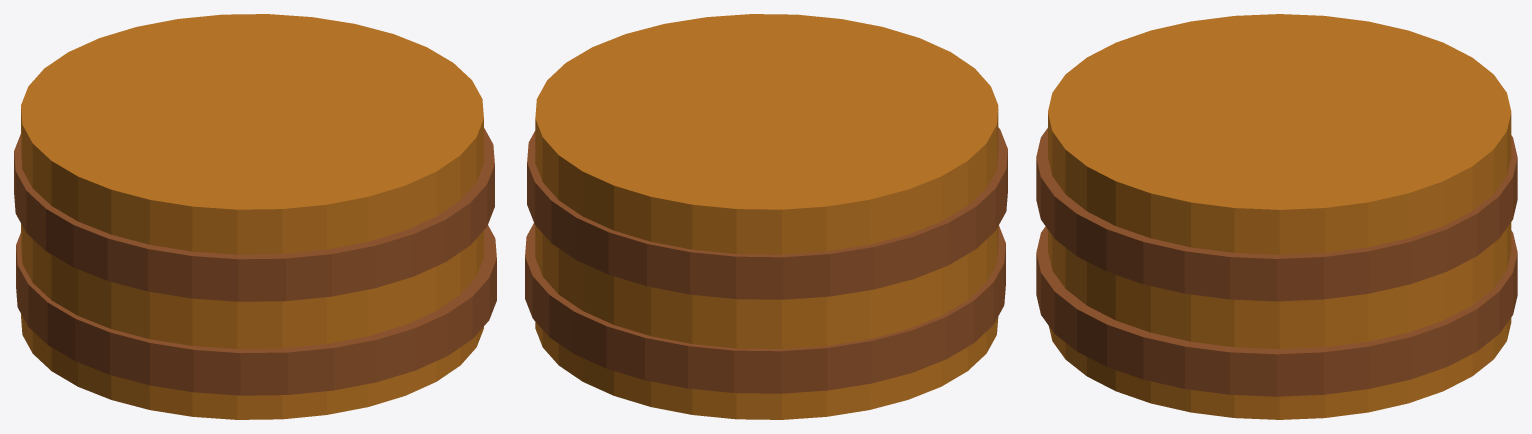
The model's file is bolocilindro choco.glb.
3 renders of one model, left to right at view 1: azimuth 30°, elevation 25°; view 2: azimuth 150°, elevation 25°; view 3: azimuth 270°, elevation 25°, orthographic.
Visible parts, largest first — view 1: Cylinder.002, Cylinder.001, Cylinder.000; view 2: Cylinder.002, Cylinder.001, Cylinder.000; view 3: Cylinder.002, Cylinder.000, Cylinder.001.
Part boxes in pixels (x1=…): Cylinder.002: x1=21, y1=14, x2=483, y2=419; Cylinder.001: x1=14, y1=128, x2=494, y2=301; Cylinder.000: x1=16, y1=225, x2=496, y2=395; Cylinder.002: x1=535, y1=14, x2=998, y2=419; Cylinder.001: x1=527, y1=127, x2=1007, y2=299; Cylinder.000: x1=525, y1=223, x2=1005, y2=393; Cylinder.002: x1=1048, y1=14, x2=1511, y2=419; Cylinder.000: x1=1036, y1=226, x2=1517, y2=396; Cylinder.001: x1=1036, y1=128, x2=1517, y2=301.
Size of the model in its own units: 2.71 by 1.3 by 2.7.
